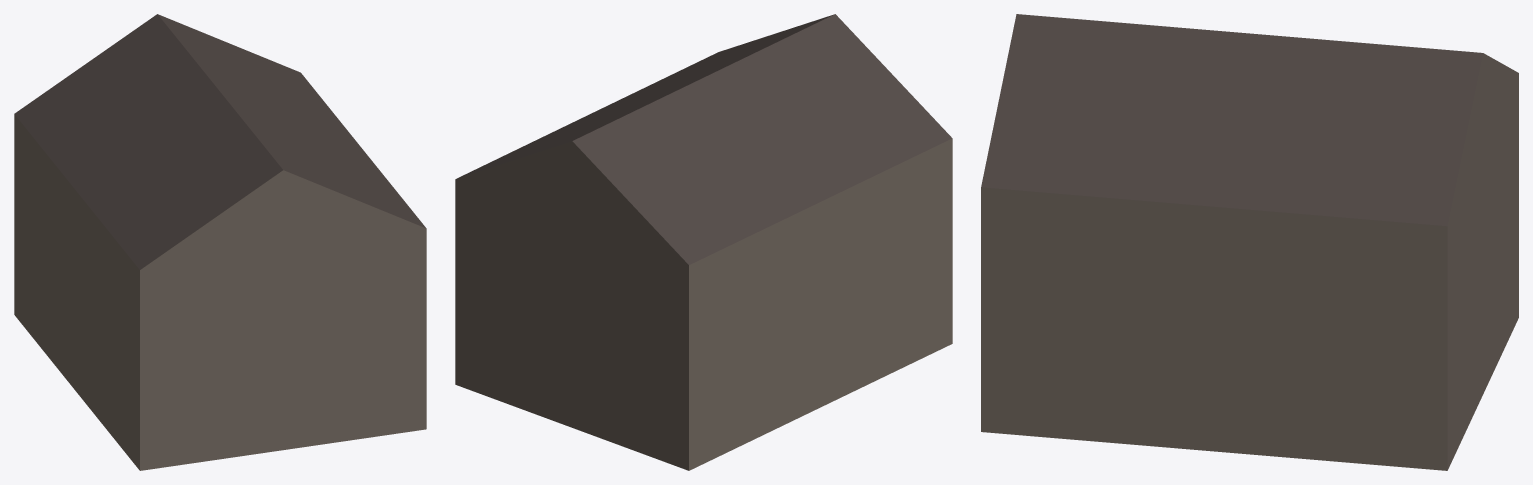
The picture shows the model from 3 angles, left to right: view 1: azimuth 30°, elevation 25°; view 2: azimuth 150°, elevation 25°; view 3: azimuth 270°, elevation 25°; orthographic projection. The views are drawn at different scales.
Visible parts, largest first — view 1: HP-w859082541; view 2: HP-w859082541; view 3: HP-w859082541.
Boxes of the visible parts, <box> form: HP-w859082541: <box>14,14,426,470</box>; HP-w859082541: <box>455,14,952,470</box>; HP-w859082541: <box>981,14,1518,470</box>.
Size of the model in its own units: 10.11 by 8.37 by 11.95.
